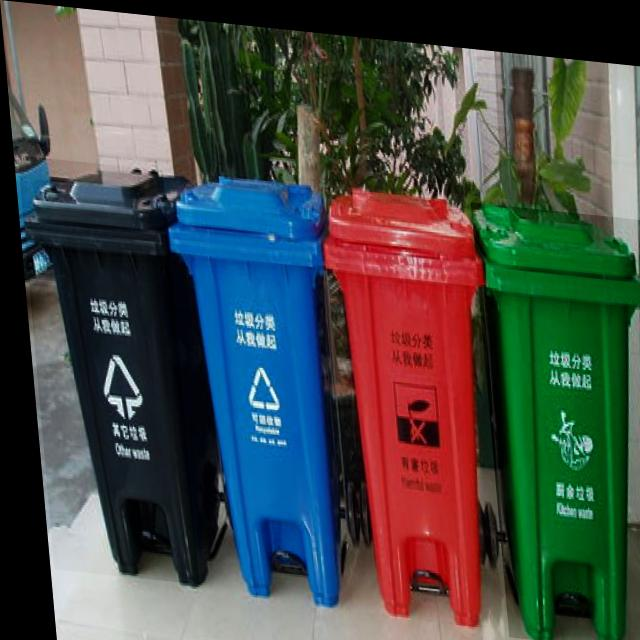garbage_bin: (15, 155, 213, 583), (313, 177, 503, 618), (160, 165, 347, 601), (468, 192, 640, 640)
